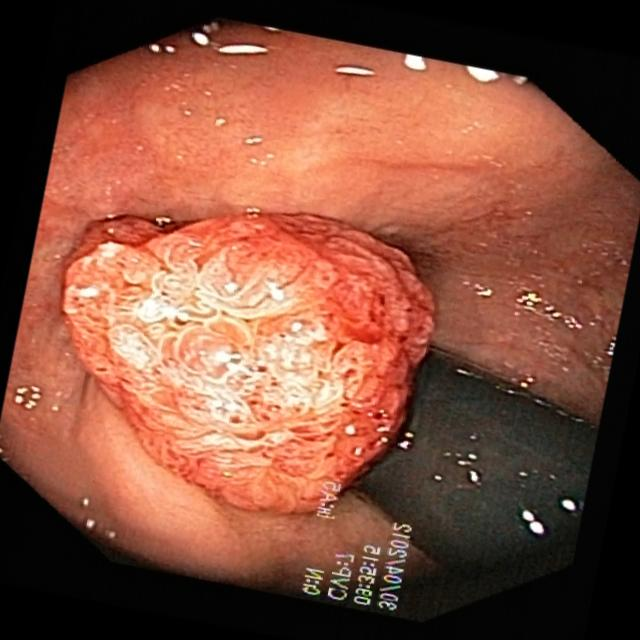Polyps: (73, 205, 448, 529)
